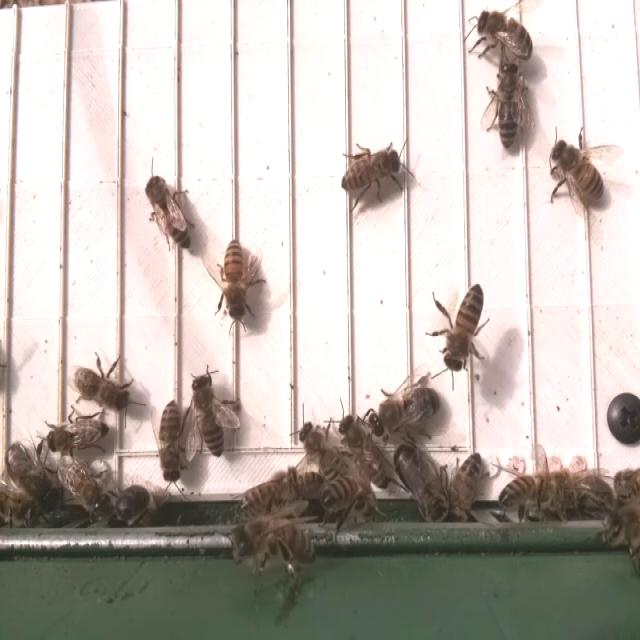Drone: (390, 436, 449, 523), (366, 382, 445, 442)
Worker: (337, 412, 391, 491), (144, 168, 194, 253), (441, 282, 486, 375), (548, 135, 606, 205), (188, 368, 227, 461), (474, 6, 534, 65), (71, 361, 133, 412), (339, 147, 402, 195), (298, 416, 340, 487), (220, 238, 252, 328), (495, 59, 524, 154), (45, 416, 113, 456), (157, 400, 186, 484)
